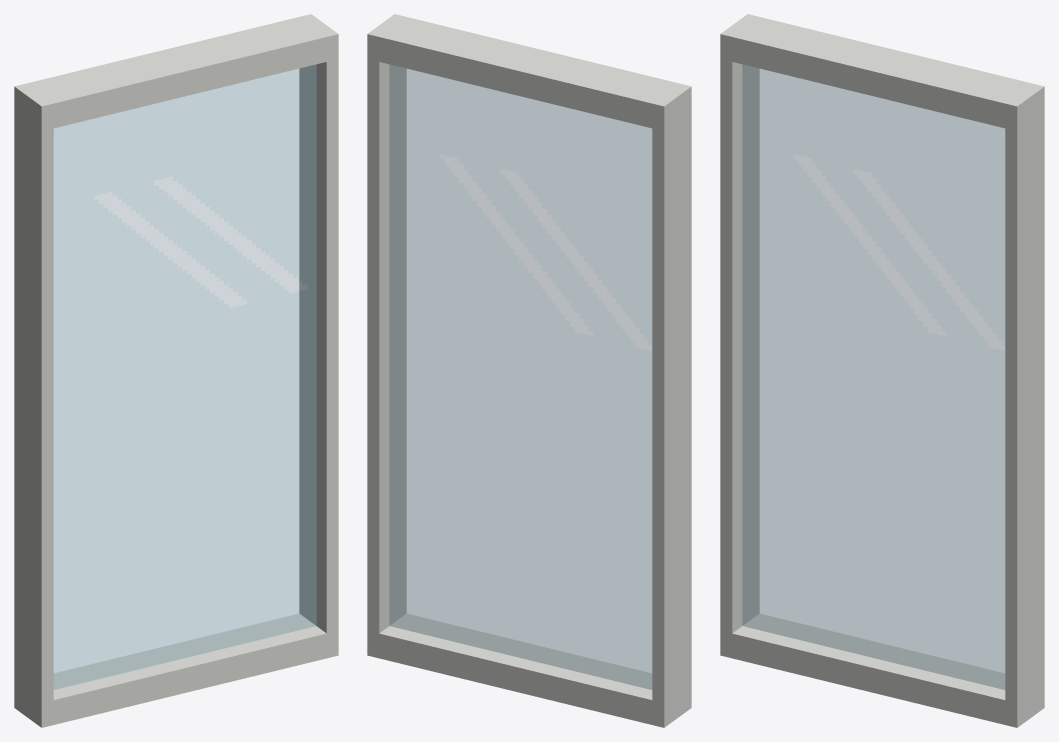
The model's file is t_wall_glass_lab.glb.
The picture shows the model from 3 angles, left to right: view 1: azimuth 30°, elevation 25°; view 2: azimuth 150°, elevation 25°; view 3: azimuth 330°, elevation 25°; orthographic projection.
Parts seen in each view (by area): view 1: block_pane, block_mullion-0.5, block_mullion0.46, block_head, block_sill; view 2: block_pane, block_mullion-0.5, block_mullion0.46, block_head, block_sill; view 3: block_pane, block_mullion0.46, block_mullion-0.5, block_head, block_sill.
Part boxes in pixels (x1,y1,x2,y2): block_pane: (53, 64, 316, 689); block_mullion-0.5: (14, 111, 53, 702); block_mullion0.46: (299, 59, 338, 633); block_head: (14, 14, 338, 131); block_sill: (14, 613, 338, 727); block_pane: (389, 64, 652, 689); block_mullion-0.5: (652, 111, 691, 702); block_mullion0.46: (367, 59, 406, 633); block_head: (367, 14, 691, 131); block_sill: (367, 613, 691, 727); block_pane: (742, 64, 1005, 689); block_mullion0.46: (1005, 111, 1044, 702); block_mullion-0.5: (720, 59, 759, 633); block_head: (720, 14, 1044, 131); block_sill: (720, 613, 1044, 727).
Bounding box in the file's own units: 1 × 2 × 0.16.
2 materials, 2 textured.
